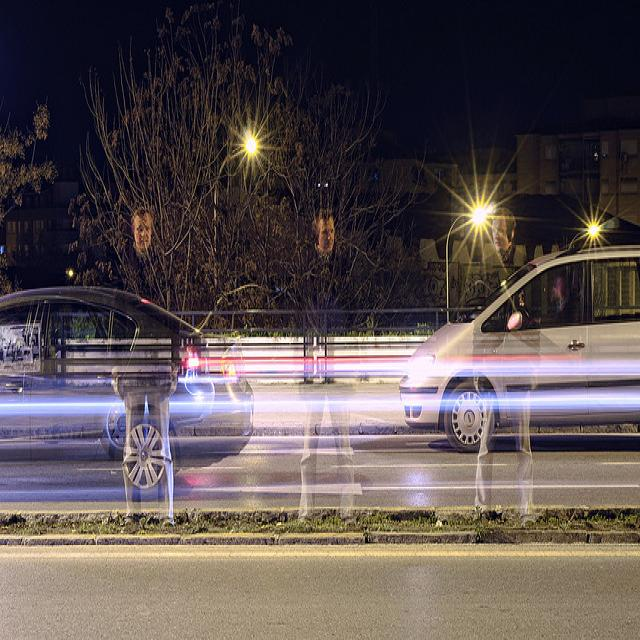Vehicle: (2, 288, 256, 492), (400, 241, 640, 456)
